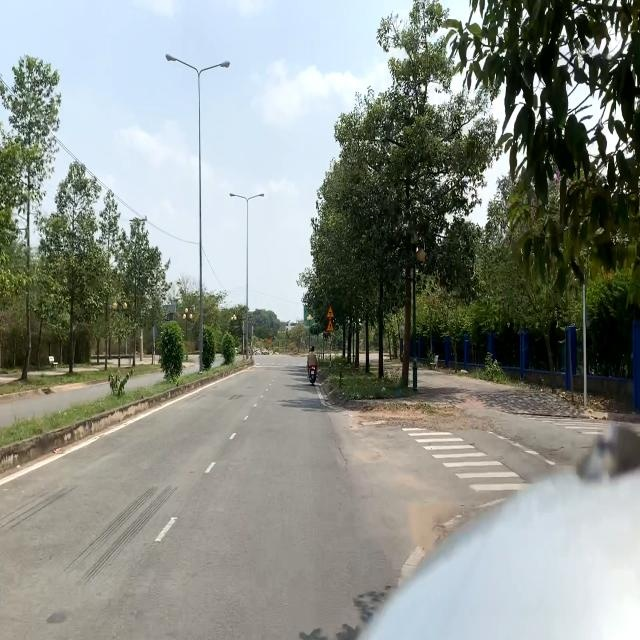bien_nguy_hiem: (326, 318, 334, 332), (326, 306, 334, 318)
